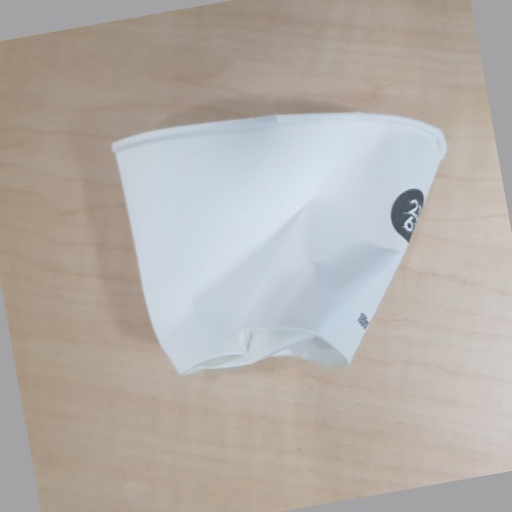Paper_1: (107, 111, 446, 377)
